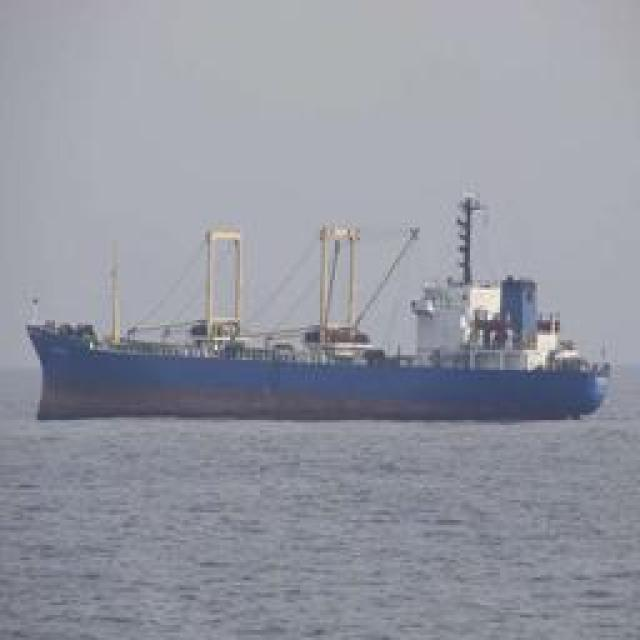ship2: (25, 180, 614, 426)
